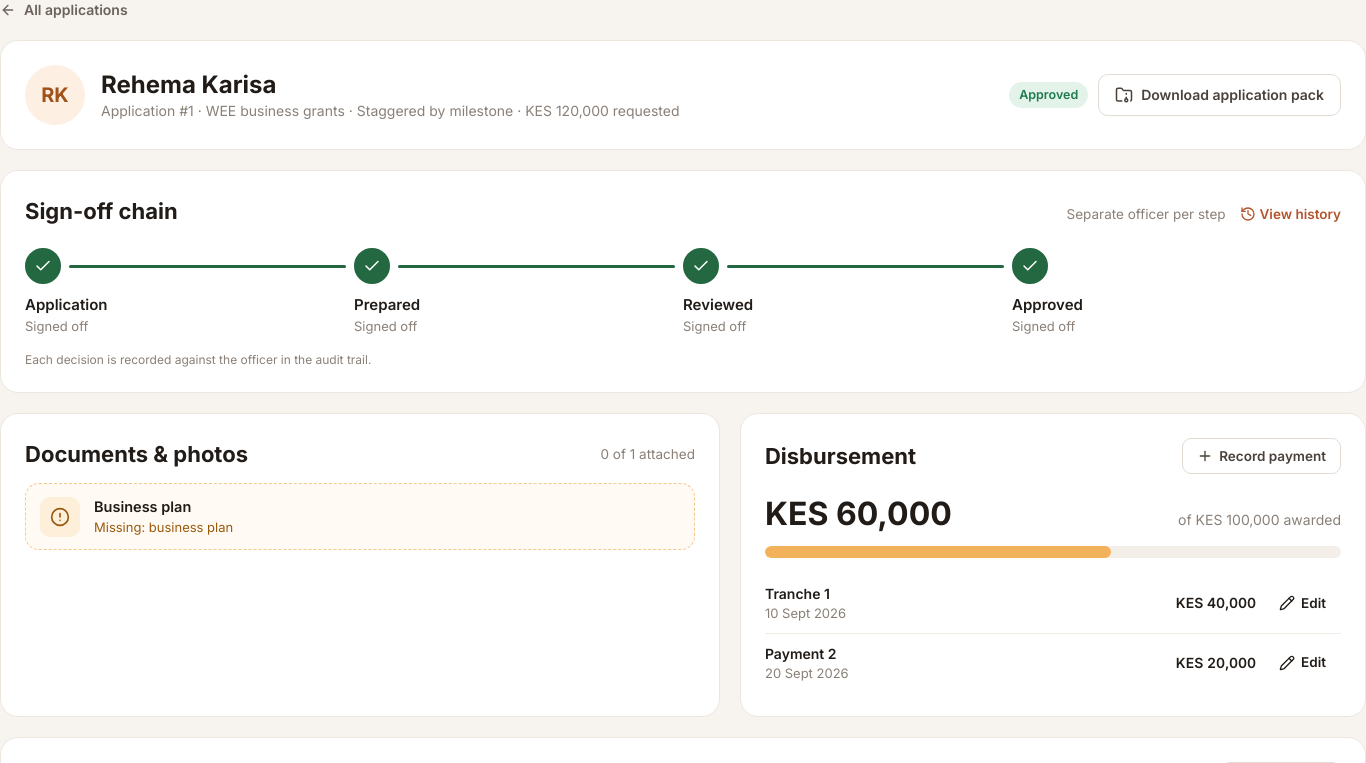
Scenario: grant detail › corrects a recorded payment, filled in with its current values
Click the button with aria-label "Edit payment 1": (1303, 603) [1264, 585, 1341, 621]
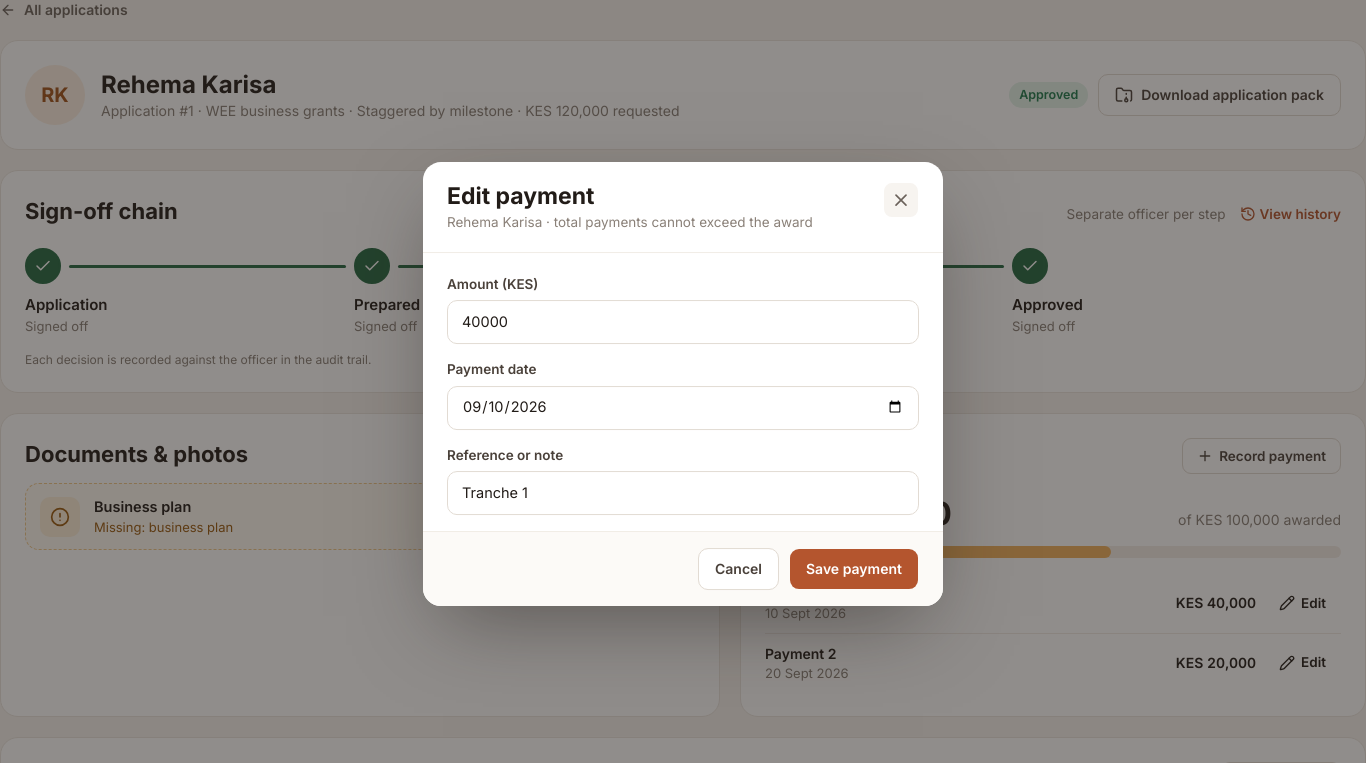
Expected: the number field labelled "Amount (KES)" holds "40000"
Expected: the date field labelled "Payment date" holds "2026-09-10", [447, 386, 919, 430]
Expected: the field labelled "Reference or note" holds "Tranche 1", [447, 471, 919, 515]
Replace the text in the number field labelled "Amount (KES)" with "35000": (683, 322) [447, 300, 919, 344]
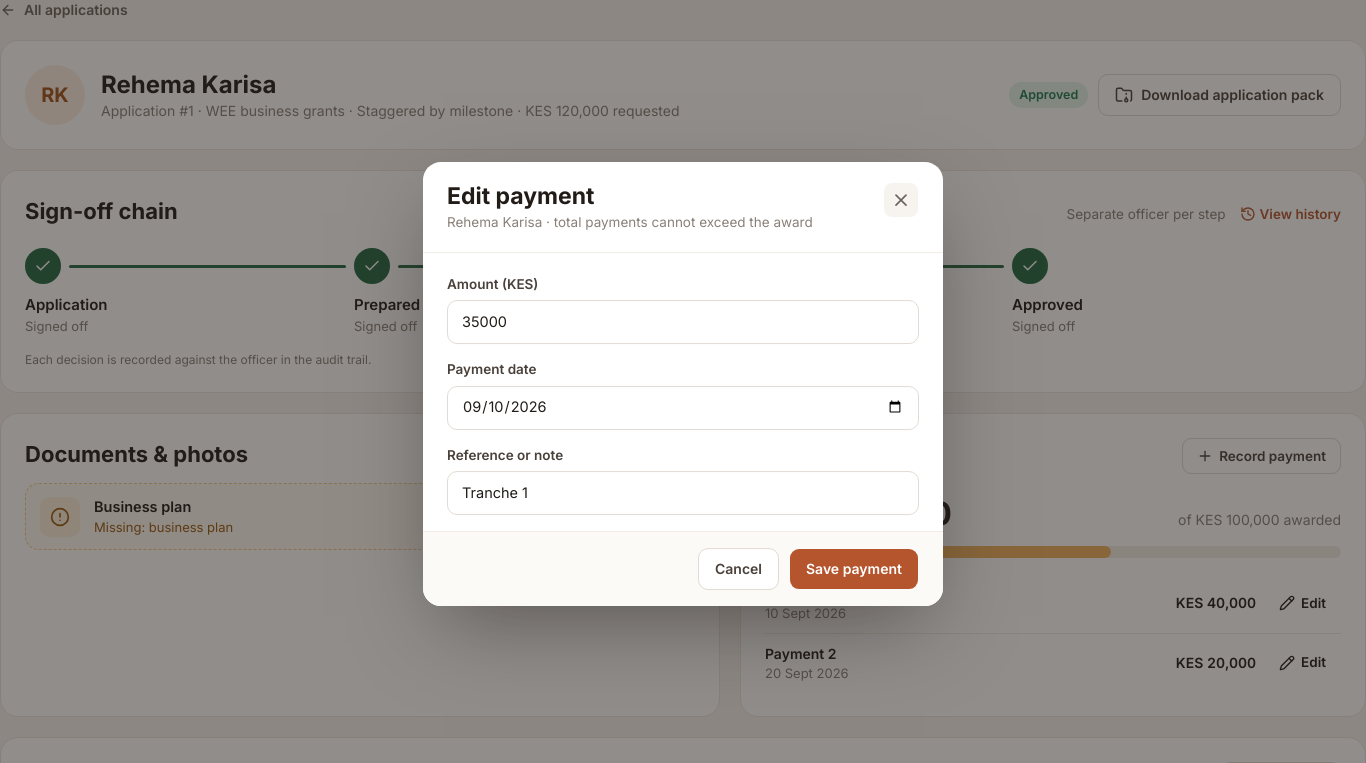
Replace the text in the field labelled "Reference or note" with "Tranche 1 (corrected)": (683, 493) [447, 471, 919, 515]
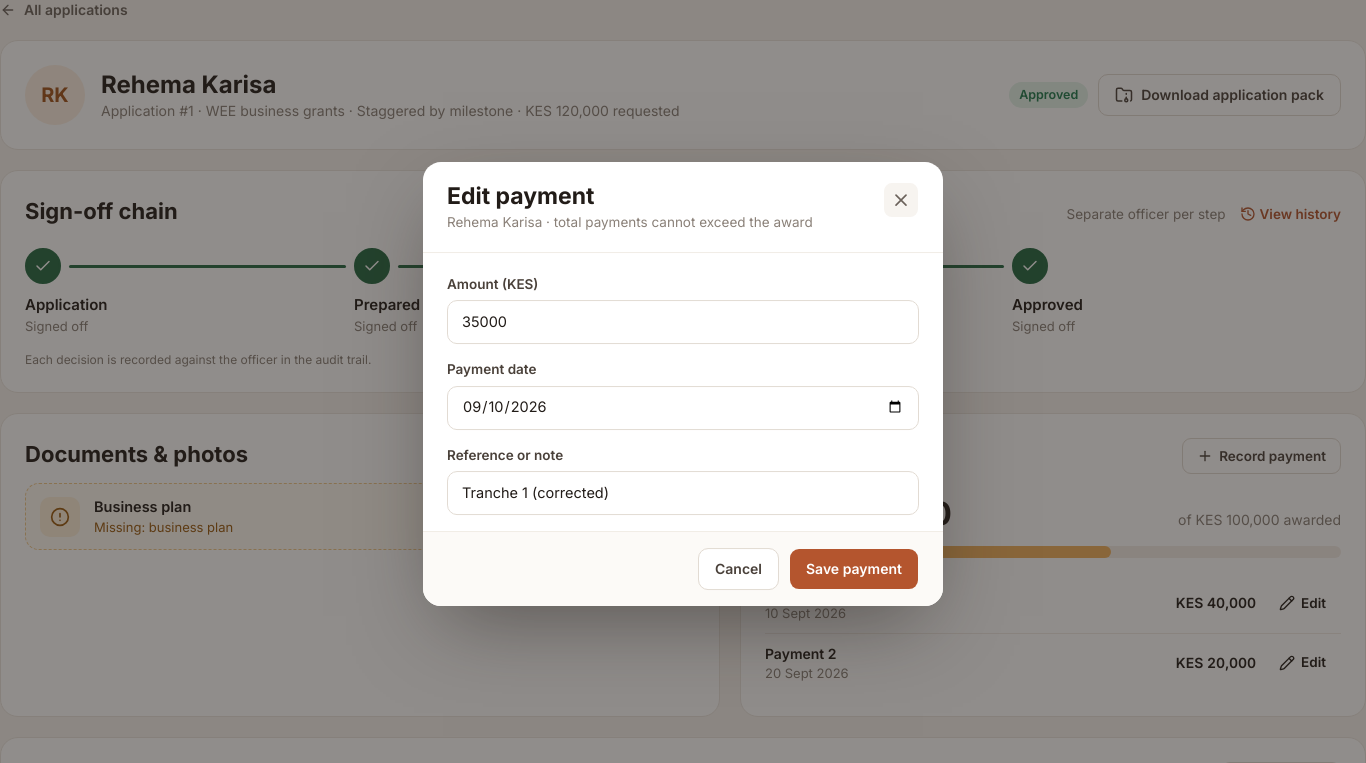
Click the button "Save payment": (854, 569) [789, 548, 919, 590]
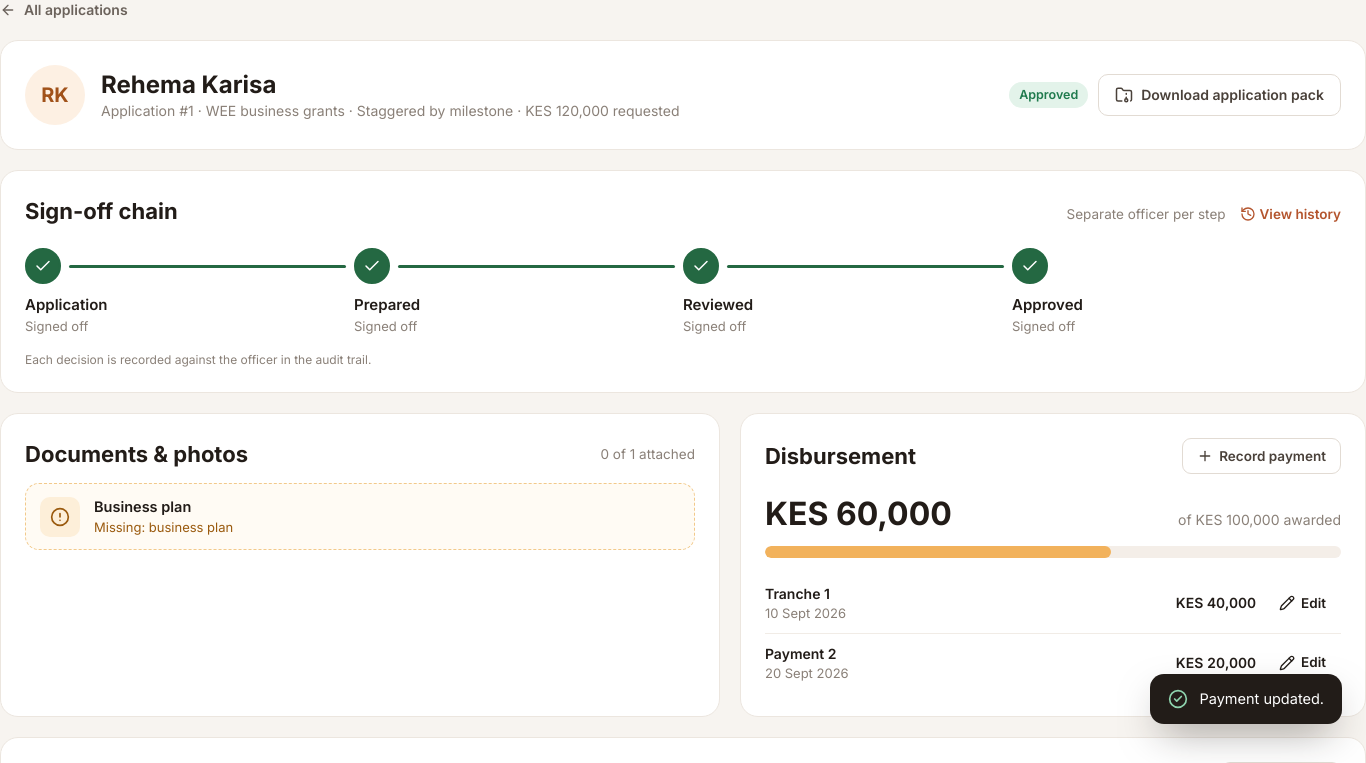
Expected: the text "Payment updated." is shown, [1150, 674, 1342, 724]
